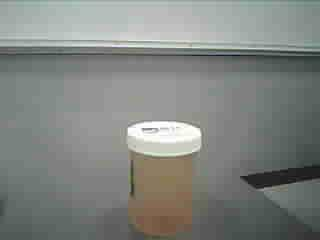Bottle B: (117, 115, 210, 240)
